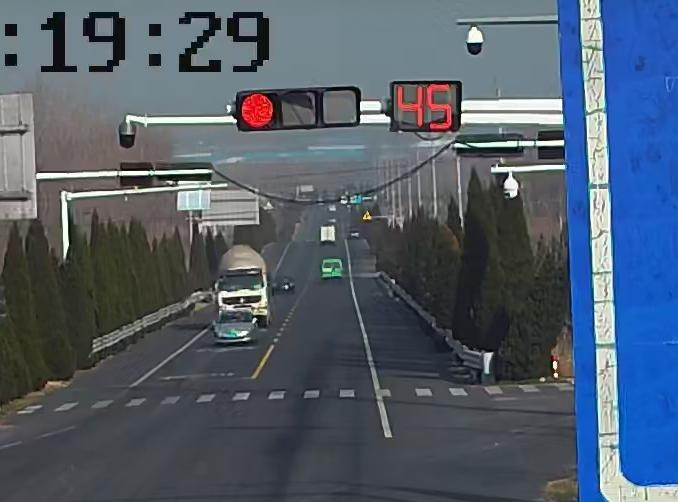red: (238, 91, 279, 131)
redtime: (396, 81, 456, 131)
